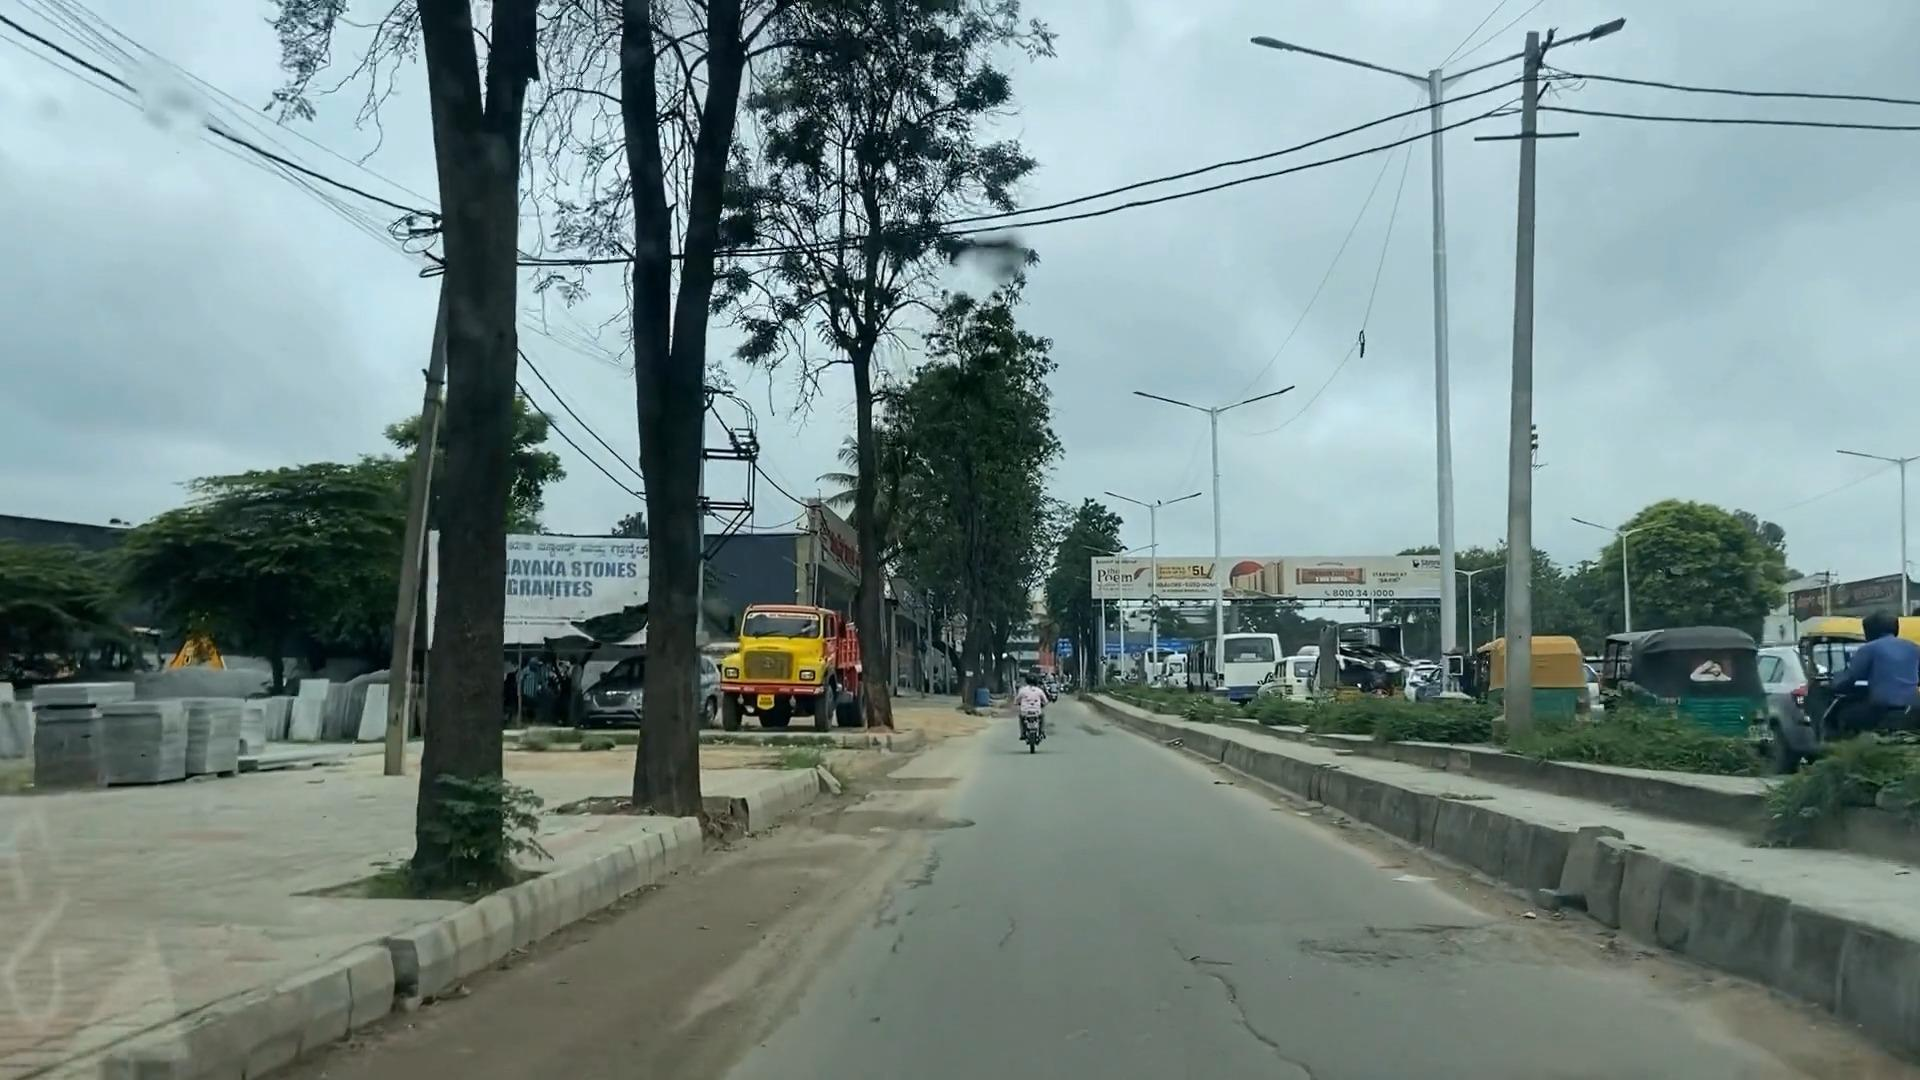RoadDamages: (1237, 893, 1614, 1034)
